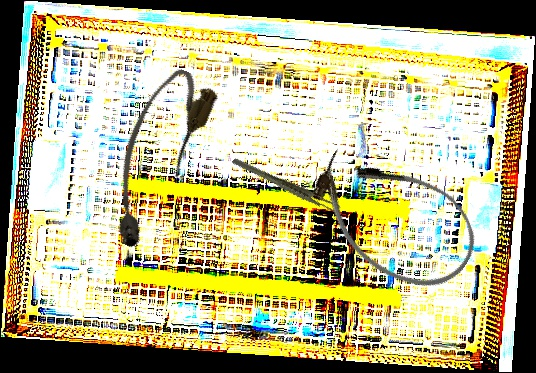Cannula: (294, 129, 493, 309), (86, 60, 223, 255)
Tissue Forceps: (231, 139, 342, 231)
